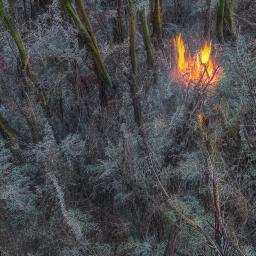Small fire: (175, 41, 216, 76)
